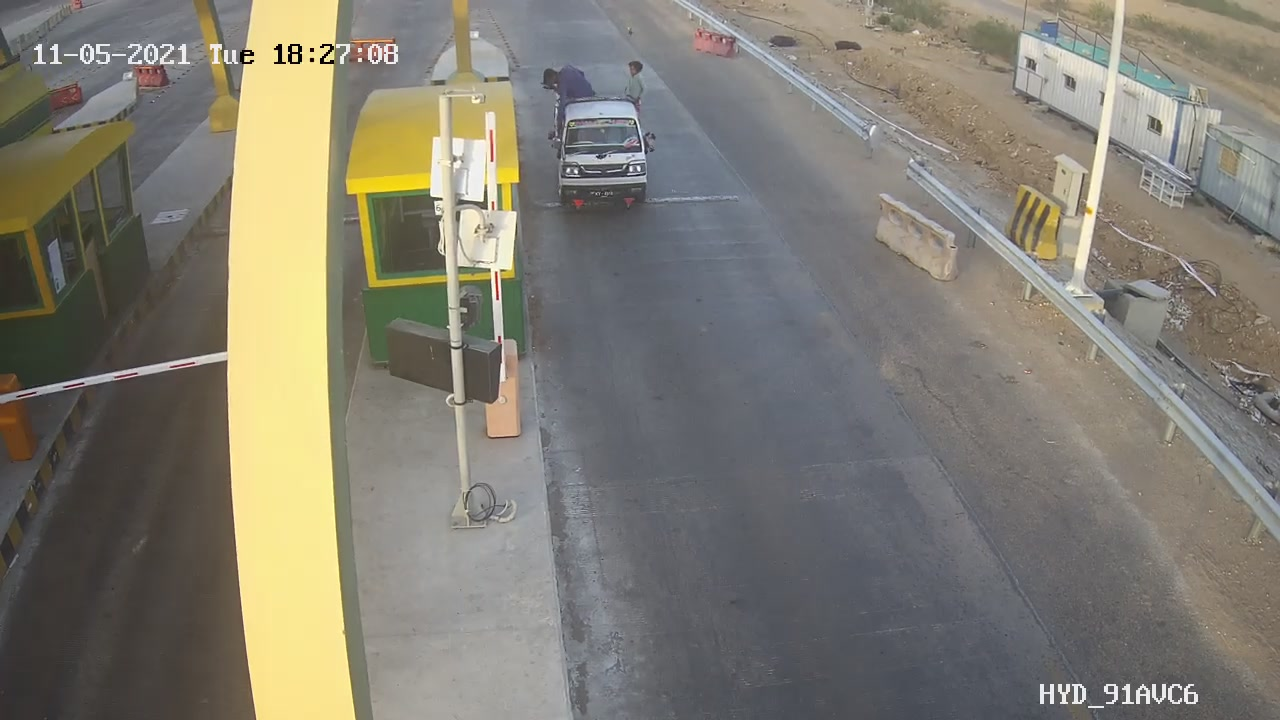F1: (539, 84, 661, 225)
